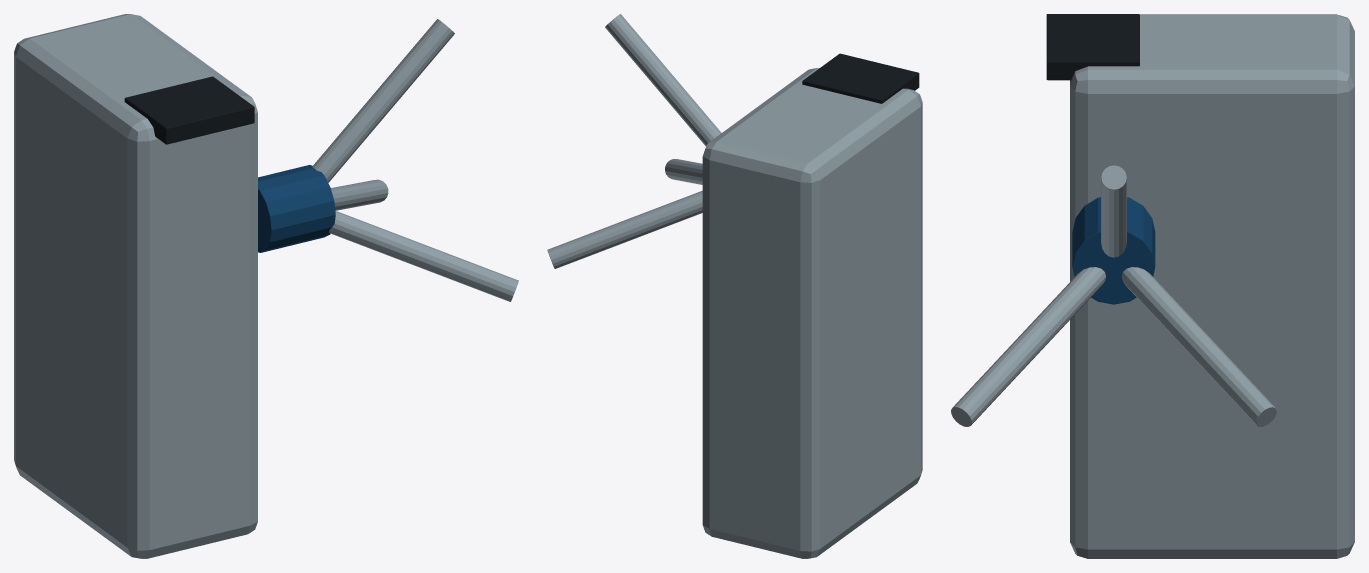
3 renders of one model, left to right at view 1: azimuth 30°, elevation 25°; view 2: azimuth 150°, elevation 25°; view 3: azimuth 270°, elevation 25°, orthographic. The views are drawn at different scales.
Parts seen in each view (by area): view 1: CABINET, TRIPOD_Hub, READER, TRIPOD_Arm.002, TRIPOD_Arm, TRIPOD_Arm.001; view 2: CABINET, READER, TRIPOD_Arm.001, TRIPOD_Arm, TRIPOD_Arm.002; view 3: CABINET, TRIPOD_Arm.001, TRIPOD_Arm.002, READER, TRIPOD_Hub, TRIPOD_Arm.
Part boxes in pixels (x1=…): CABINET: x1=14, y1=14, x2=257, y2=558; TRIPOD_Hub: x1=258, y1=165, x2=335, y2=252; READER: x1=124, y1=76, x2=254, y2=144; TRIPOD_Arm.002: x1=329, y1=210, x2=518, y2=301; TRIPOD_Arm: x1=312, y1=19, x2=454, y2=182; TRIPOD_Arm.001: x1=330, y1=179, x2=388, y2=210; CABINET: x1=702, y1=68, x2=922, y2=558; READER: x1=802, y1=53, x2=919, y2=103; TRIPOD_Arm.001: x1=547, y1=190, x2=702, y2=268; TRIPOD_Arm: x1=605, y1=14, x2=721, y2=146; TRIPOD_Arm.002: x1=665, y1=159, x2=702, y2=184; CABINET: x1=1070, y1=14, x2=1354, y2=558; TRIPOD_Arm.001: x1=1121, y1=267, x2=1276, y2=426; TRIPOD_Arm.002: x1=951, y1=267, x2=1105, y2=426; READER: x1=1046, y1=14, x2=1139, y2=80; TRIPOD_Hub: x1=1072, y1=197, x2=1155, y2=304; TRIPOD_Arm: x1=1101, y1=165, x2=1126, y2=257.
Bounding box in the file's own units: 0.8363 × 1.08 × 0.7792.
